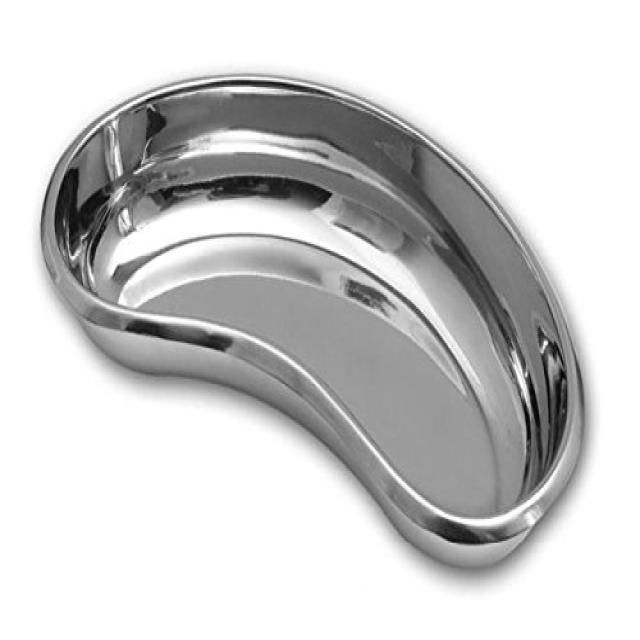Kidney Tray: (36, 59, 588, 578)
